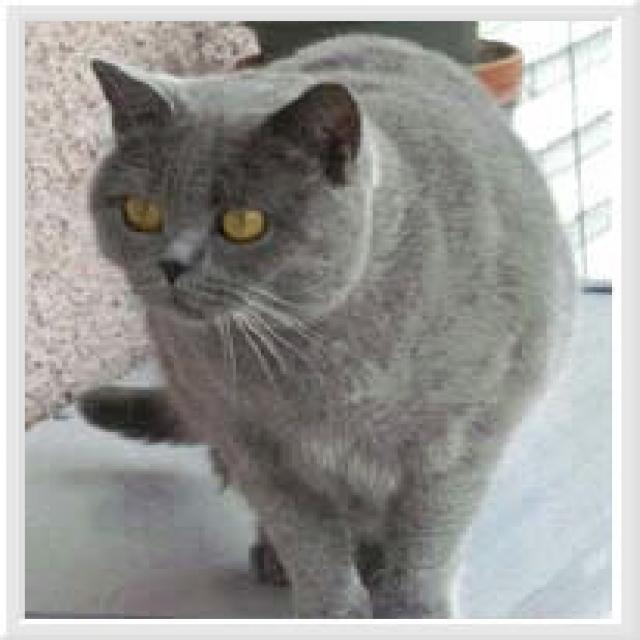British_Shorthair: (78, 55, 380, 345)
